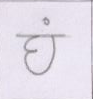anusvara: (43, 18, 49, 25)
